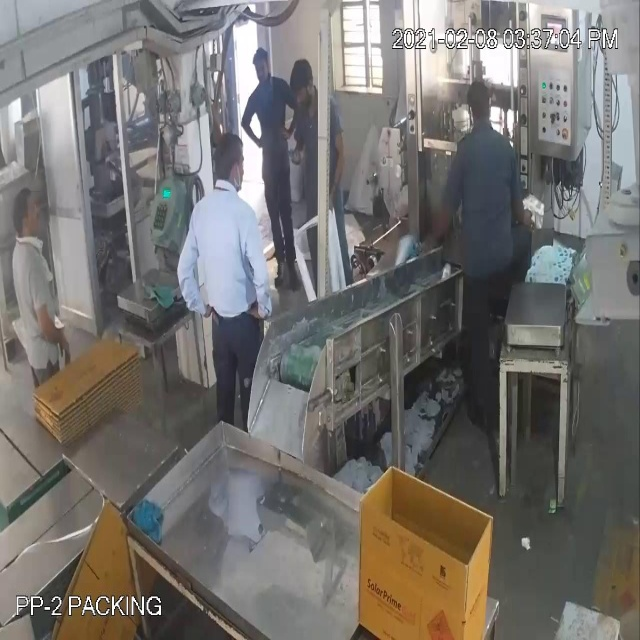Sin_guantes: (21, 291, 78, 364), (244, 223, 278, 331), (172, 226, 204, 316), (331, 120, 351, 225)
